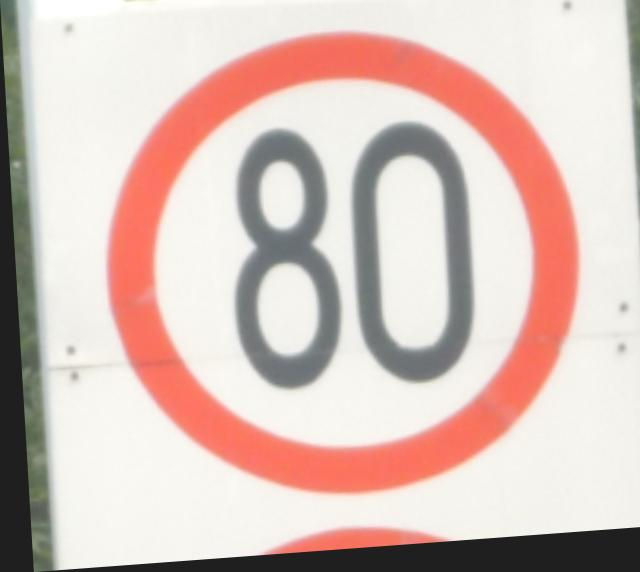limit80: (81, 11, 592, 521)
